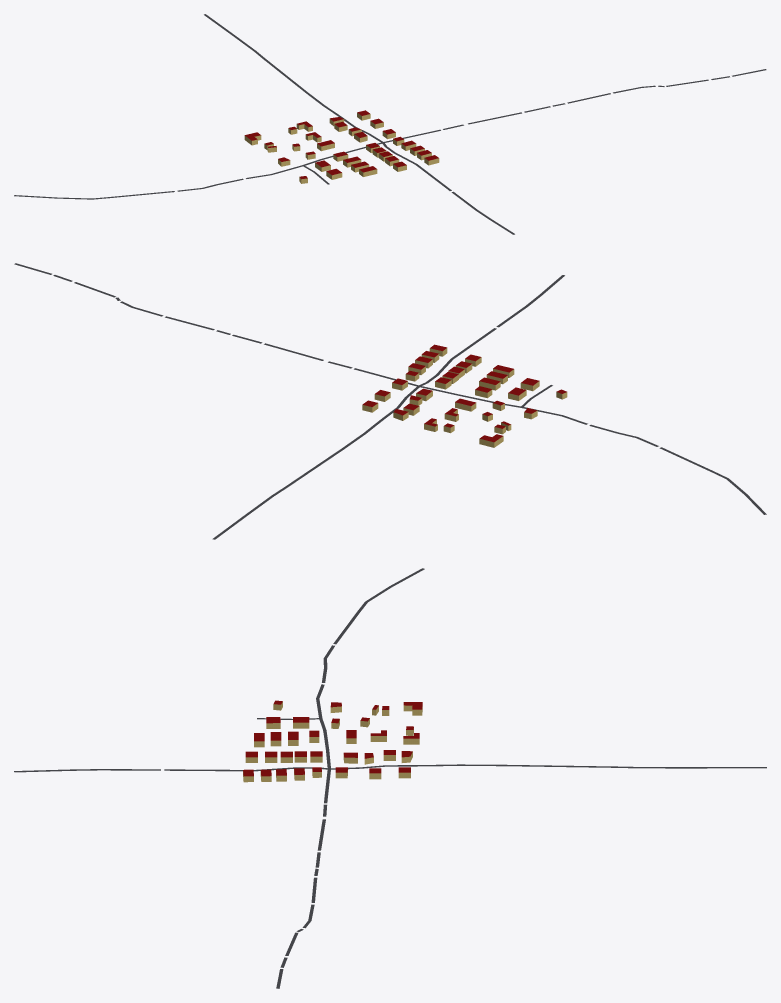
The model's file is district_-2_1.glb.
The picture shows the model from 3 angles, top to bottom: view 1: azimuth 30°, elevation 25°; view 2: azimuth 150°, elevation 25°; view 3: azimuth 270°, elevation 25°; orthographic projection. The views are drawn at different scales.
Visible parts, largest first — view 1: Road улица Текстильщиков, Road Прогонная улица; view 2: Road улица Текстильщиков, Road Прогонная улица; view 3: Road улица Текстильщиков, Road Прогонная улица.
Boxes of the visible parts, <box> form: Road улица Текстильщиков: <box>14,69,766,199</box>; Road Прогонная улица: <box>204,14,514,234</box>; Road улица Текстильщиков: <box>14,263,766,514</box>; Road Прогонная улица: <box>212,275,564,539</box>; Road улица Текстильщиков: <box>276,568,424,988</box>; Road Прогонная улица: <box>14,764,766,772</box>.
Size of the model in its own units: 1163 by 7.5 by 880.
3 materials, 3 textured.
